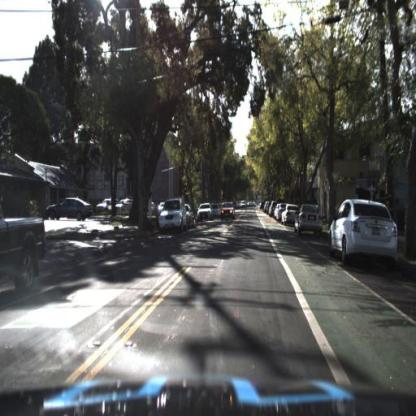car: (324, 182, 407, 278), (330, 197, 400, 263), (42, 194, 92, 224), (294, 203, 325, 236), (48, 196, 92, 219), (159, 200, 191, 231), (294, 203, 325, 234), (219, 201, 240, 227), (281, 204, 301, 230), (182, 204, 199, 230), (196, 201, 214, 222), (282, 200, 294, 227), (222, 202, 237, 219), (211, 204, 222, 222)
